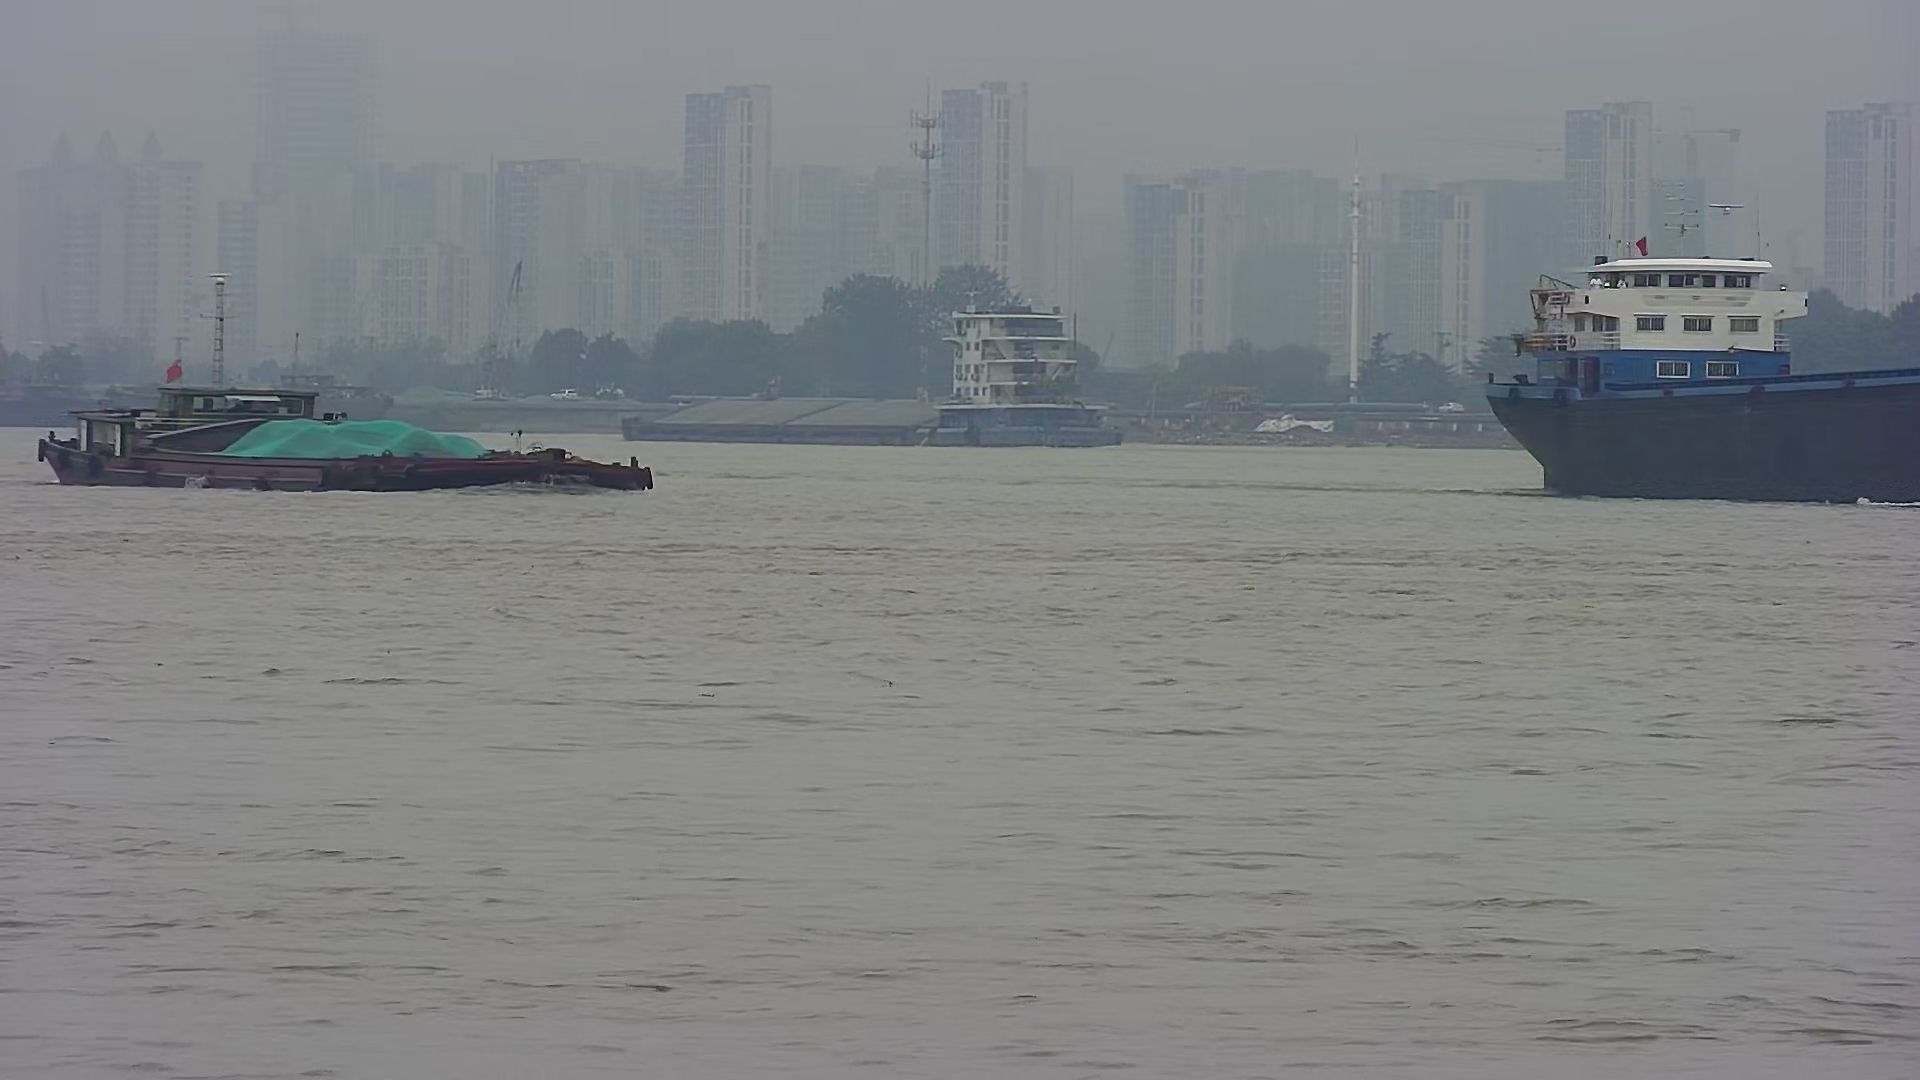ship: (1443, 227, 1920, 512), (32, 338, 698, 508), (596, 270, 1142, 458)
